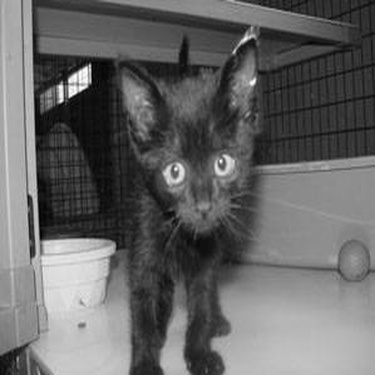cat: (103, 19, 333, 369)
